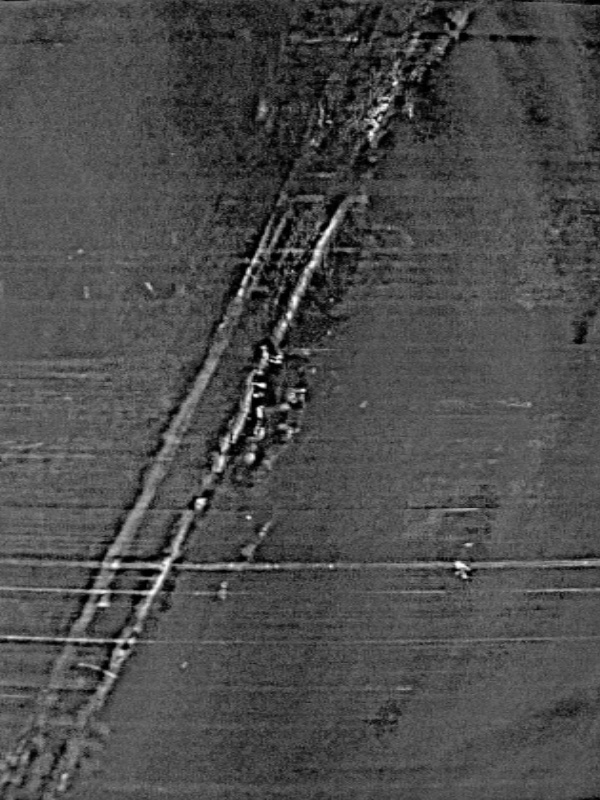splice_vulcanized: (1, 1, 465, 800)
